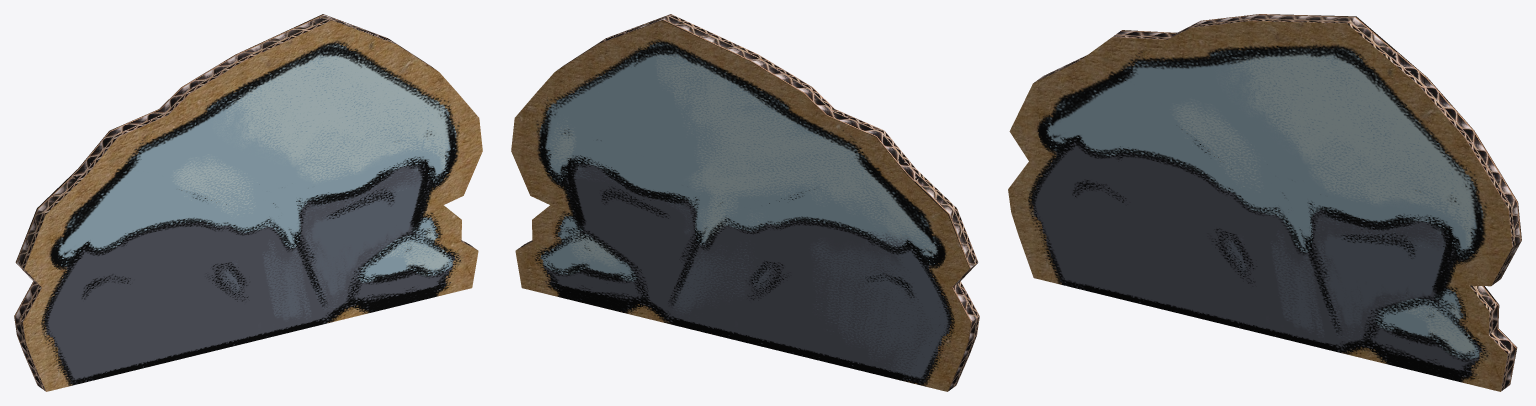
The model's file is Rock01.fbx.
3 views of the same model, side by side, from view 1: azimuth 30°, elevation 25°; view 2: azimuth 150°, elevation 25°; view 3: azimuth 330°, elevation 25° (orthographic). The views are drawn at different scales.
Parts seen in each view (by area): view 1: Plane.001; view 2: Plane.001; view 3: Plane.001.
Part boxes in pixels (bbox=[...]): Plane.001: bbox=[14, 14, 482, 391]; Plane.001: bbox=[511, 14, 979, 391]; Plane.001: bbox=[1008, 14, 1521, 391].
Bounding box in the file's own units: 266 × 167 × 8.87.
